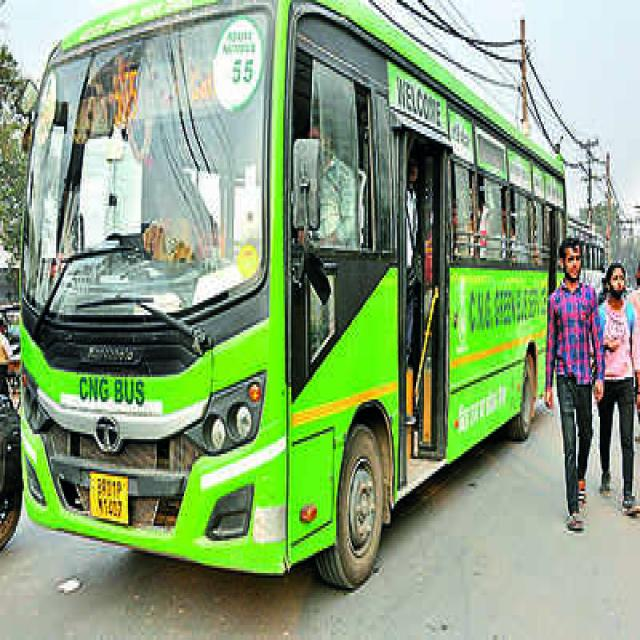bus: (21, 4, 558, 580)
